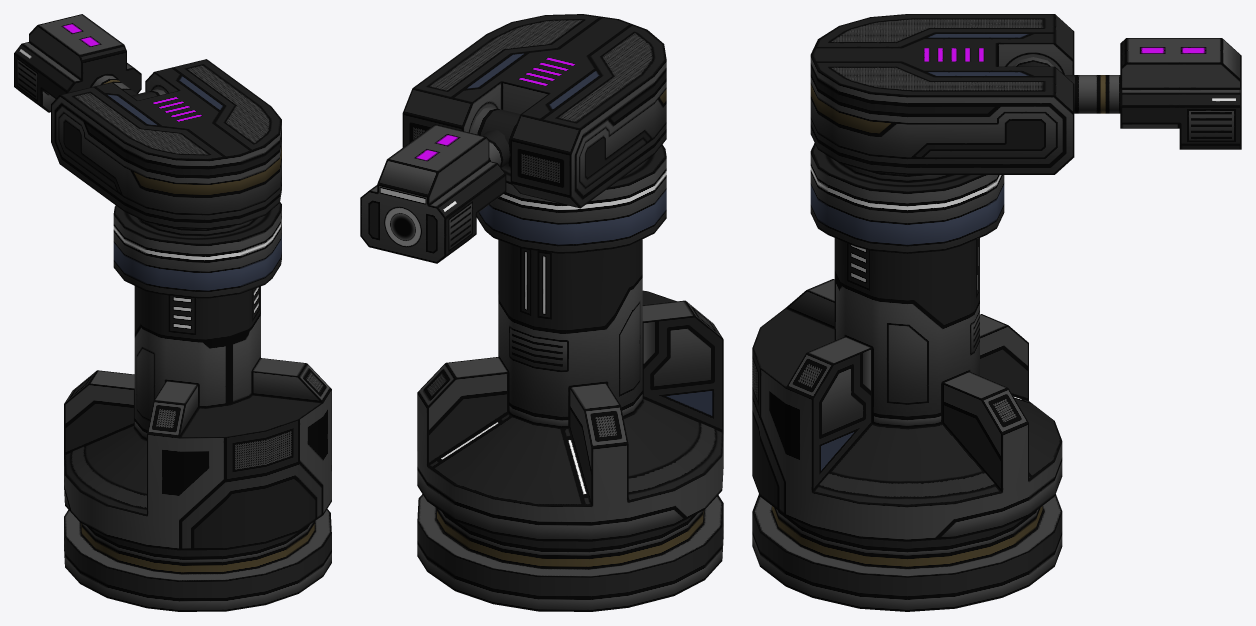
The model's file is laser_tower_001.fbx.
The picture shows the model from 3 angles, left to right: view 1: azimuth 30°, elevation 25°; view 2: azimuth 150°, elevation 25°; view 3: azimuth 270°, elevation 25°; orthographic projection. The views are drawn at different scales.
Visible parts, largest first — view 1: base, turret_y, turret_x; view 2: base, turret_y, turret_x; view 3: base, turret_y, turret_x.
Part boxes in pixels (<box>): base: <box>64,202,331,611</box>; turret_y: <box>51,59,281,229</box>; turret_x: <box>14,14,165,112</box>; base: <box>417,144,723,611</box>; turret_y: <box>402,14,666,208</box>; turret_x: <box>360,107,520,263</box>; base: <box>752,143,1062,611</box>; turret_y: <box>810,14,1074,174</box>; turret_x: <box>1012,38,1241,149</box>.
Bounding box in the file's own units: 160 × 283 × 253.
